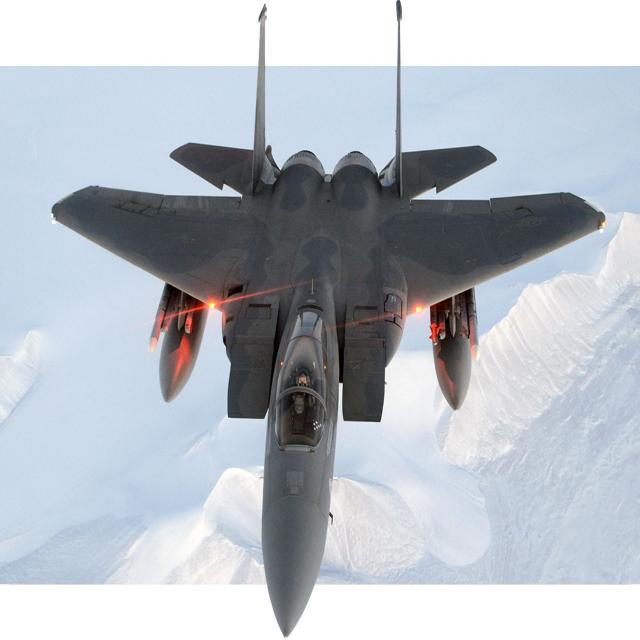F15: (34, 6, 612, 640)
